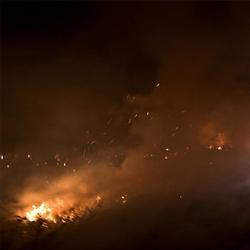fire: (19, 198, 63, 219)
